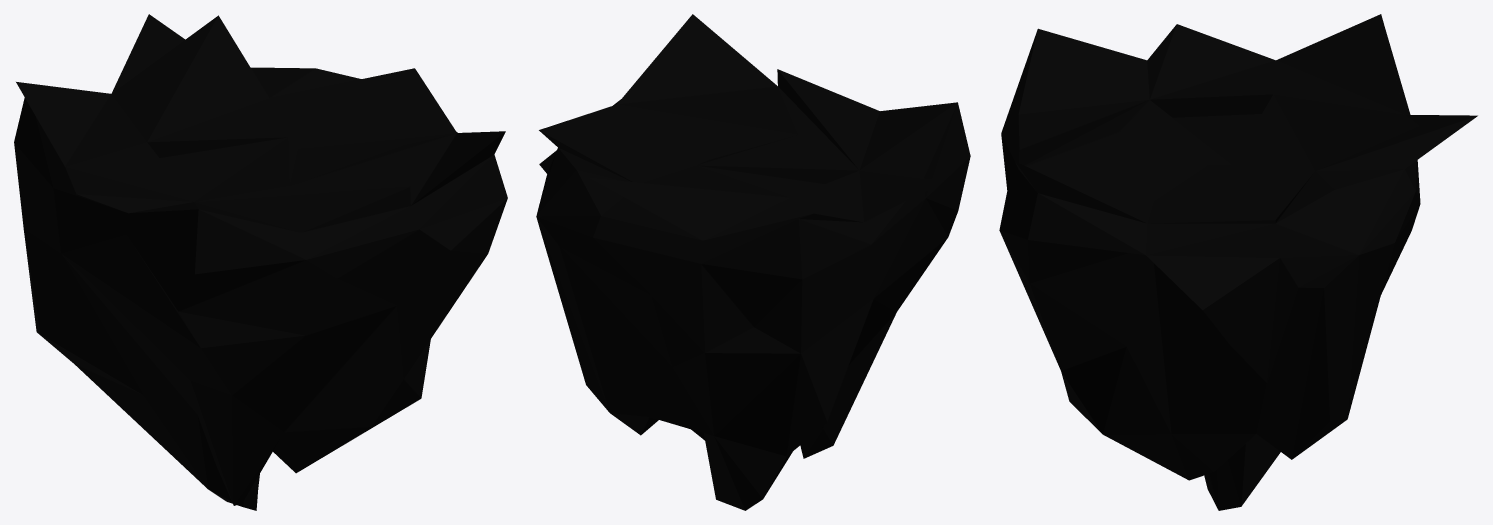
File: plane_swamp.FBX
3 renders of one model, left to right at view 1: azimuth 30°, elevation 25°; view 2: azimuth 150°, elevation 25°; view 3: azimuth 270°, elevation 25°, orthographic. The views are drawn at different scales.
Visible parts, largest first — view 1: plane; view 2: plane; view 3: plane.
Boxes of the visible parts, left/top/right/bottom form: plane: left=14, top=14, right=507, bottom=510; plane: left=536, top=14, right=970, bottom=510; plane: left=999, top=14, right=1477, bottom=510.
Bounding box in the file's own units: 45.02 × 42.45 × 43.49.
1 material, 1 textured.
